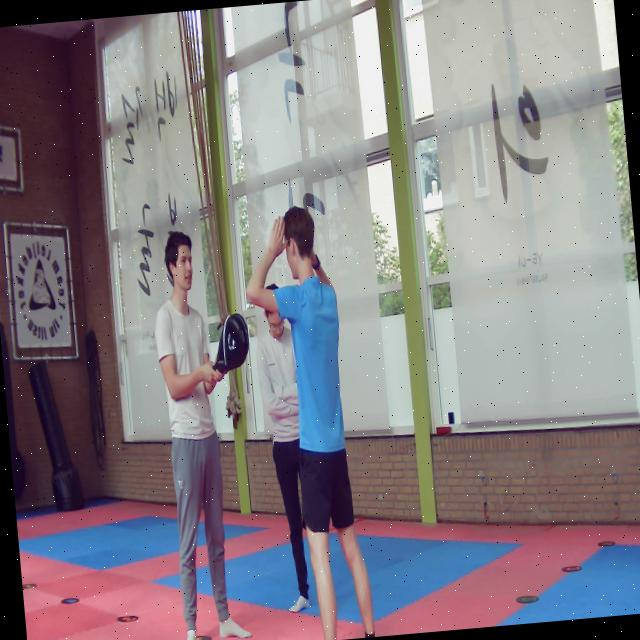paddle: (211, 314, 248, 369)
